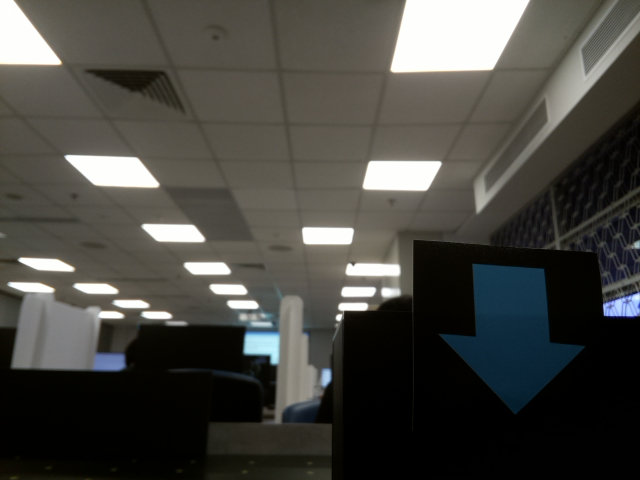down: (433, 253, 589, 420)
